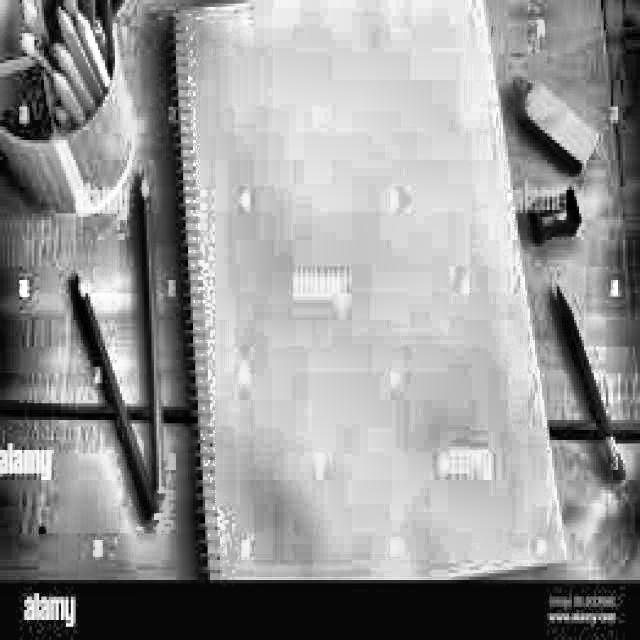Notebook: (164, 4, 570, 582)
